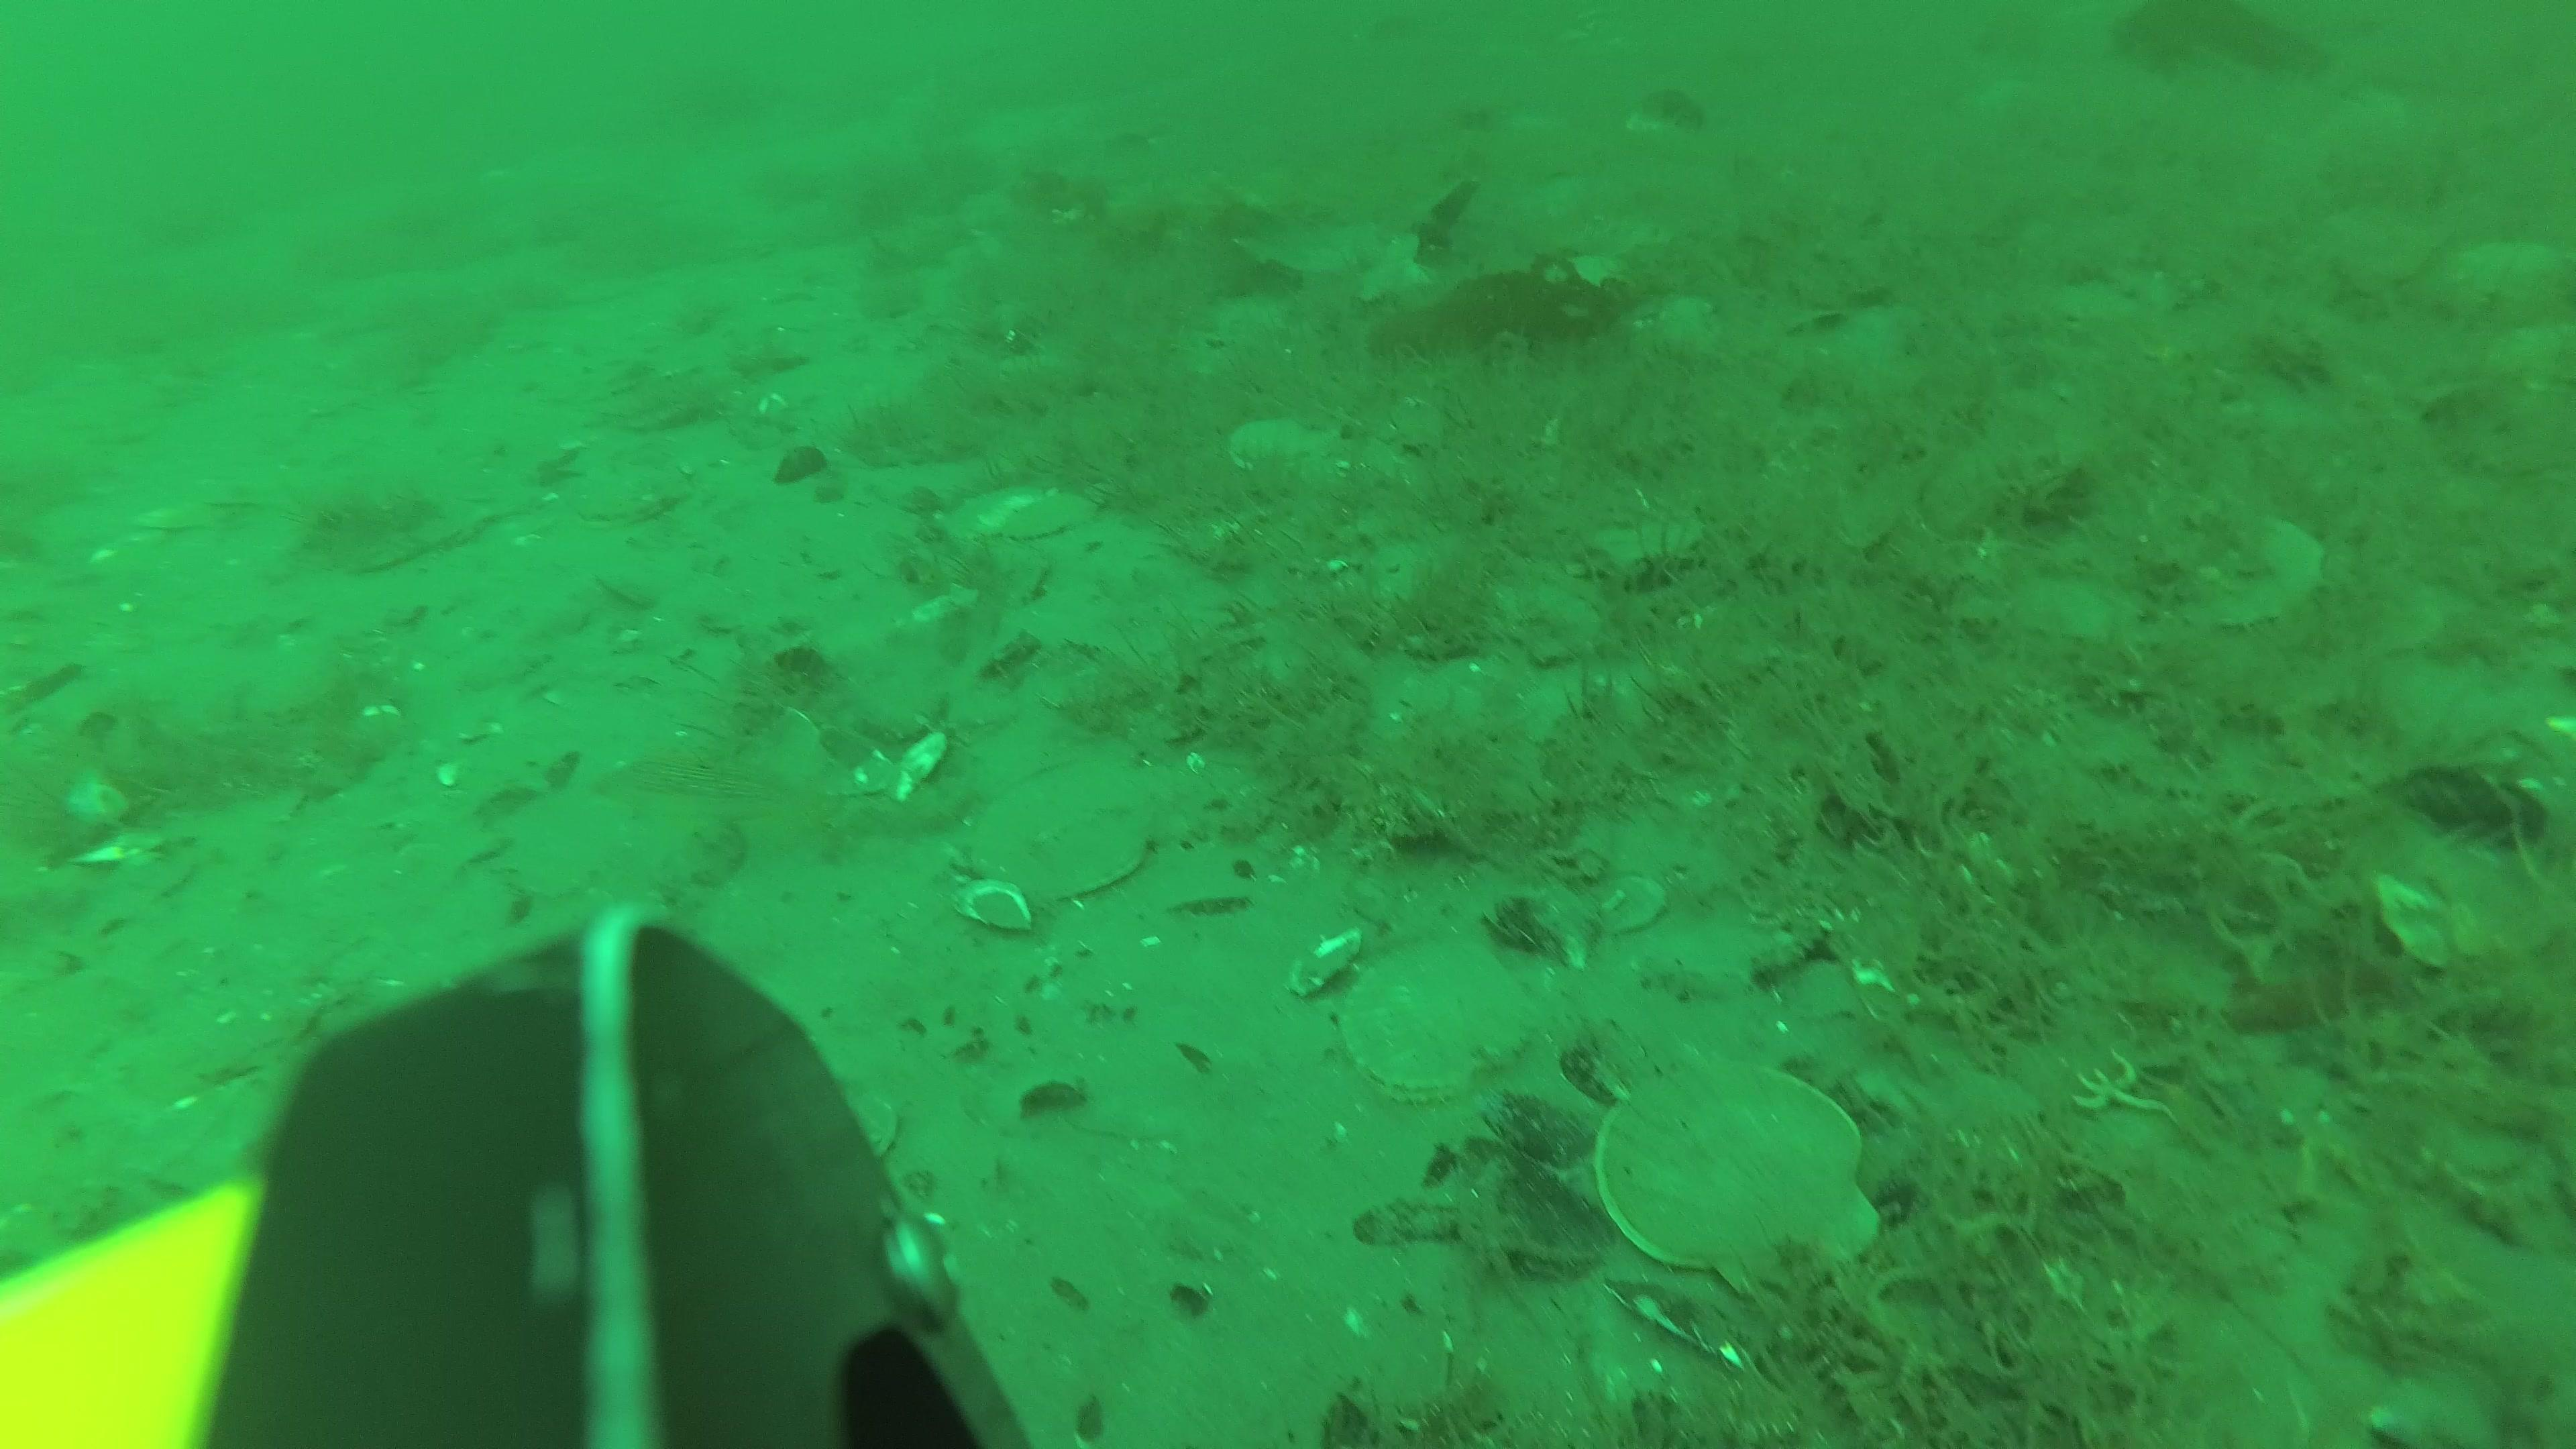scallop: (1596, 1072, 1886, 1300), (1345, 934, 1537, 1104), (975, 757, 1155, 902), (2173, 520, 2327, 632), (568, 456, 699, 531), (1228, 414, 1338, 472), (1008, 487, 1093, 540), (945, 485, 1031, 534)
